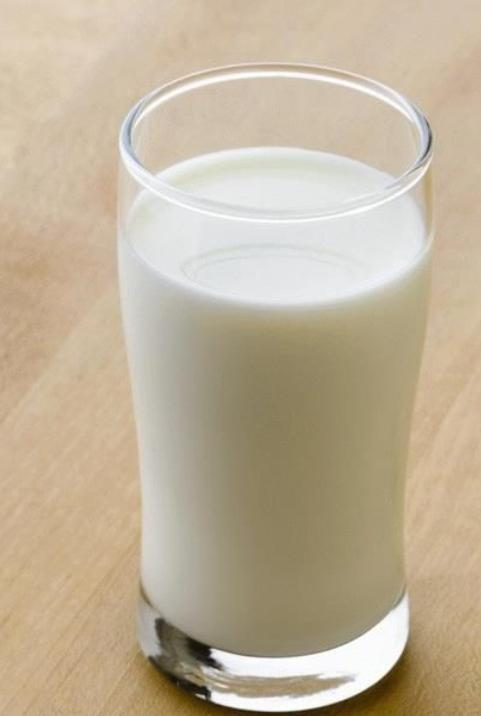produk_susu: (152, 87, 397, 665)
